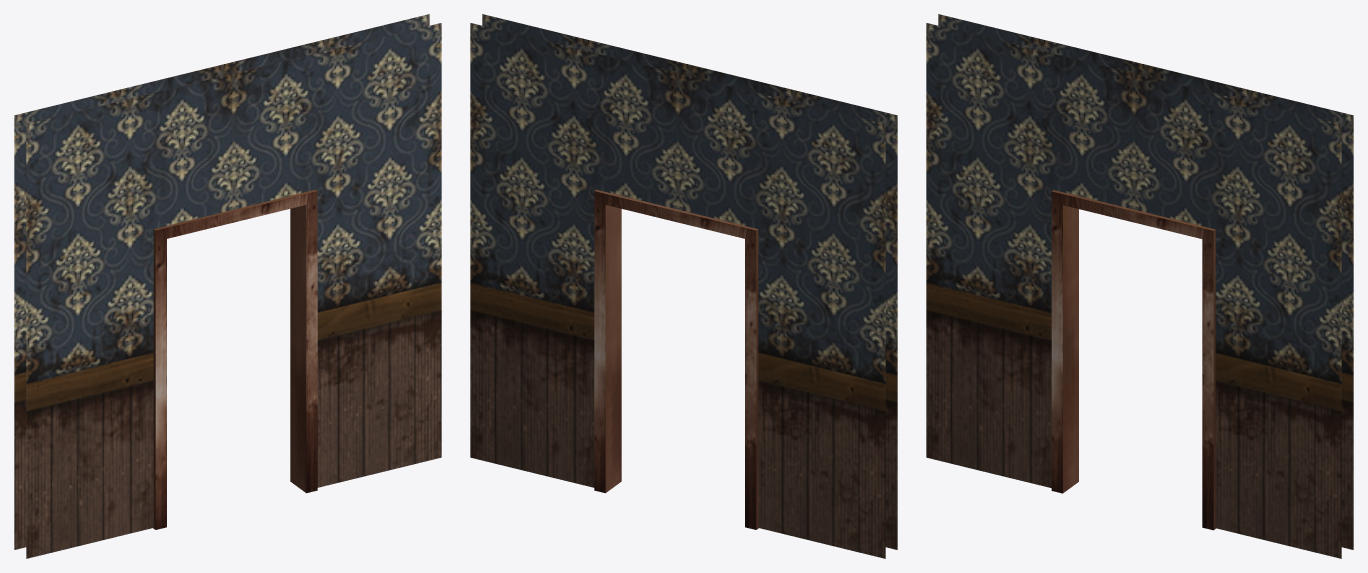
The model's file is wall_blue_dorrway_1.obj.
The picture shows the model from 3 angles, left to right: view 1: azimuth 30°, elevation 25°; view 2: azimuth 150°, elevation 25°; view 3: azimuth 330°, elevation 25°; orthographic projection.
Visible parts, largest first — view 1: Doorframe; view 2: Doorframe; view 3: Doorframe.
Part boxes in pixels (x1,y1,x2,y2): Doorframe: (14, 14, 441, 558); Doorframe: (470, 14, 897, 558); Doorframe: (926, 14, 1353, 558).
Bounding box in the file's own units: 3 × 3 × 0.2.
Materials: 3 (3 with a texture image).
